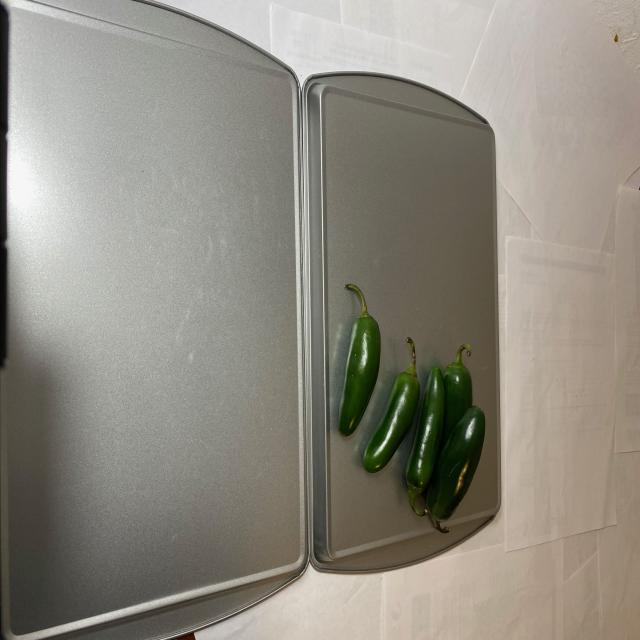chilli: (329, 284, 487, 535)
